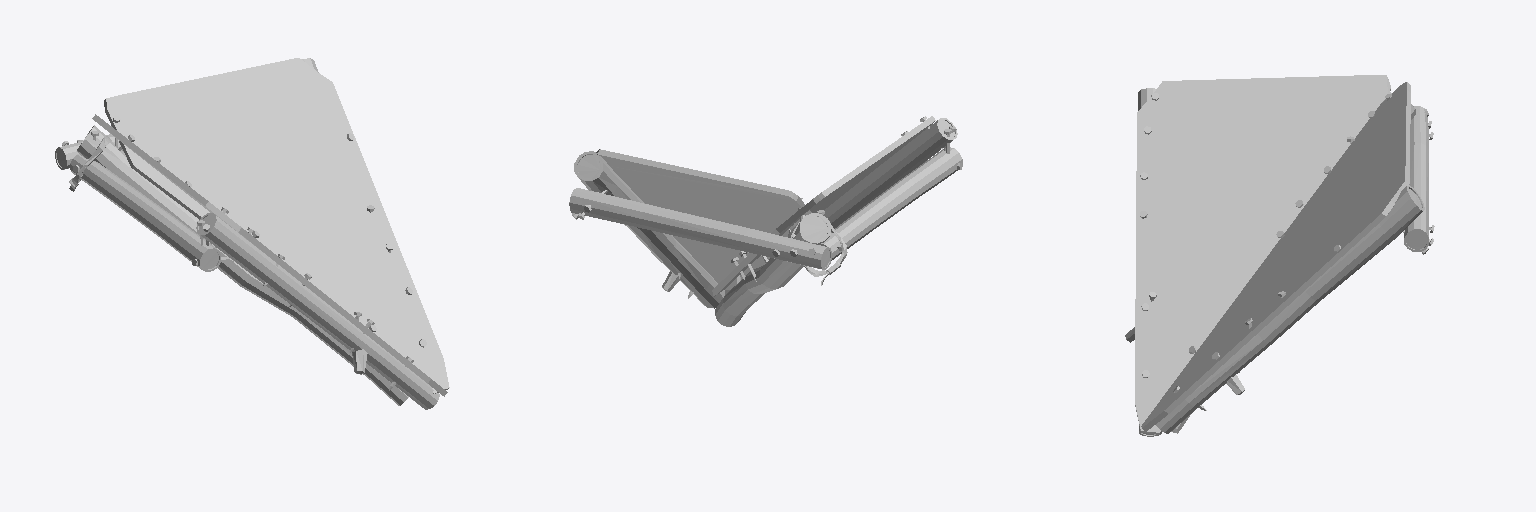
The model's file is RaftFloorInnerCorner.obj.
3 views of the same model, side by side, from view 1: azimuth 30°, elevation 25°; view 2: azimuth 150°, elevation 25°; view 3: azimuth 270°, elevation 25° (orthographic).
Parts seen in each view (by area): view 1: Cube.005; view 2: Cube.005; view 3: Cube.005.
Boxes of the visible parts, box(x1,y1,x2,y2) form: Cube.005: box(55, 58, 449, 409); Cube.005: box(569, 116, 962, 326); Cube.005: box(1125, 75, 1434, 436).
Size of the model in its own units: 4.56 by 4.44 by 4.71.